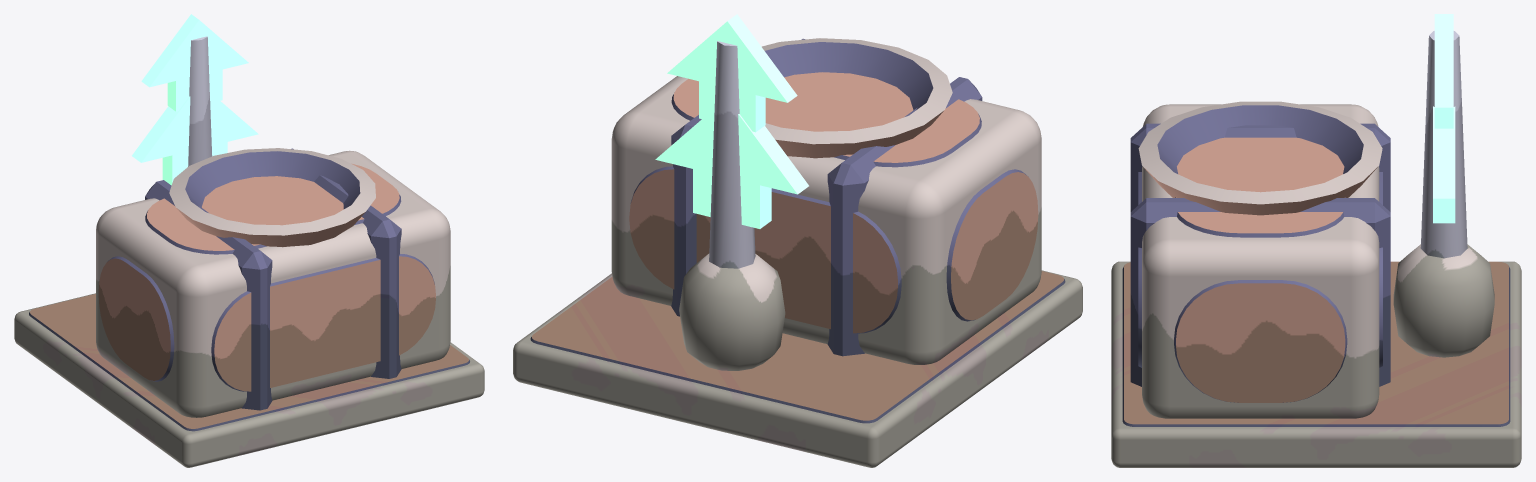
File: R4X_CargoUplink.glb
3 renders of one model, left to right at view 1: azimuth 30°, elevation 25°; view 2: azimuth 150°, elevation 25°; view 3: azimuth 270°, elevation 25°, orthographic. The views are drawn at different scales.
Parts seen in each view (by area): view 1: R4X_CargoUplink_Body; view 2: R4X_CargoUplink_Body; view 3: R4X_CargoUplink_Body.
Boxes of the visible parts, x1,y1,x2,y2 form: R4X_CargoUplink_Body: [14, 14, 484, 467]; R4X_CargoUplink_Body: [513, 14, 1082, 467]; R4X_CargoUplink_Body: [1111, 14, 1521, 467].
Bounding box in the file's own units: 0.514 × 0.515 × 0.514.
Materials: 5 (4 with a texture image).
